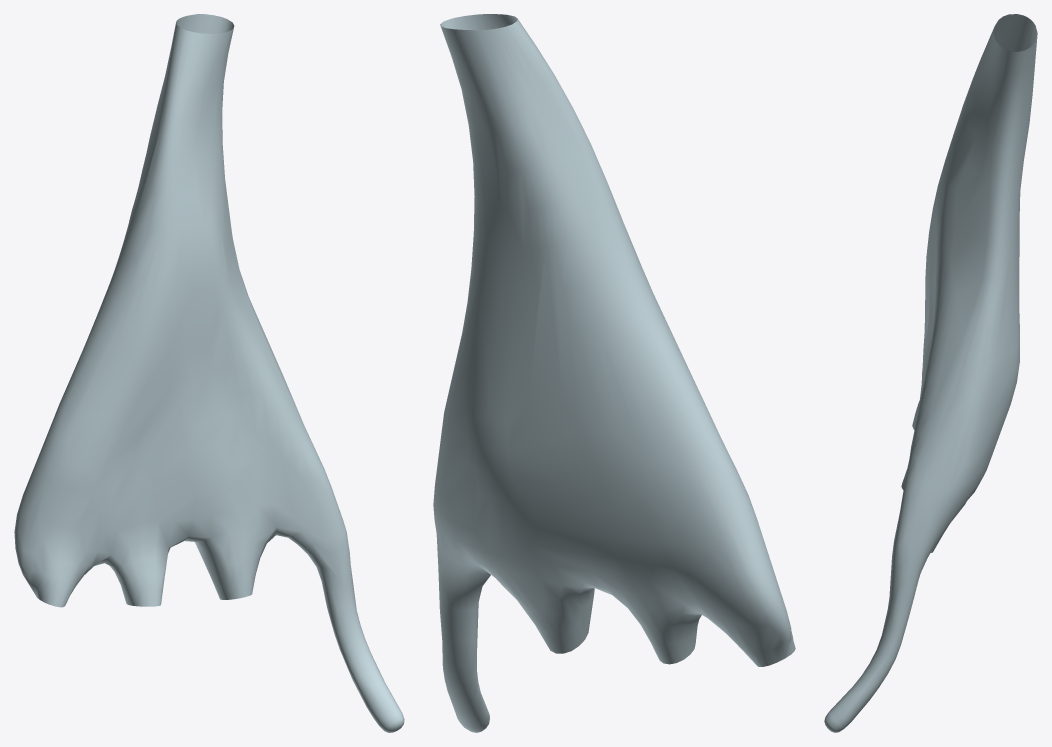
File: musculos-common-flexor-tendon-sheath-r.glb
3 views of the same model, side by side, from view 1: azimuth 30°, elevation 25°; view 2: azimuth 150°, elevation 25°; view 3: azimuth 270°, elevation 25° (orthographic). The views are drawn at different scales.
Visible parts, largest first — view 1: Common flexor tendon sheath.r; view 2: Common flexor tendon sheath.r; view 3: Common flexor tendon sheath.r.
Part boxes in pixels (x1,y1,x2,y2): Common flexor tendon sheath.r: (14, 14, 404, 732); Common flexor tendon sheath.r: (433, 14, 795, 732); Common flexor tendon sheath.r: (824, 14, 1037, 732).
Size of the model in its own units: 0.0615 by 0.1212 by 0.0355.
